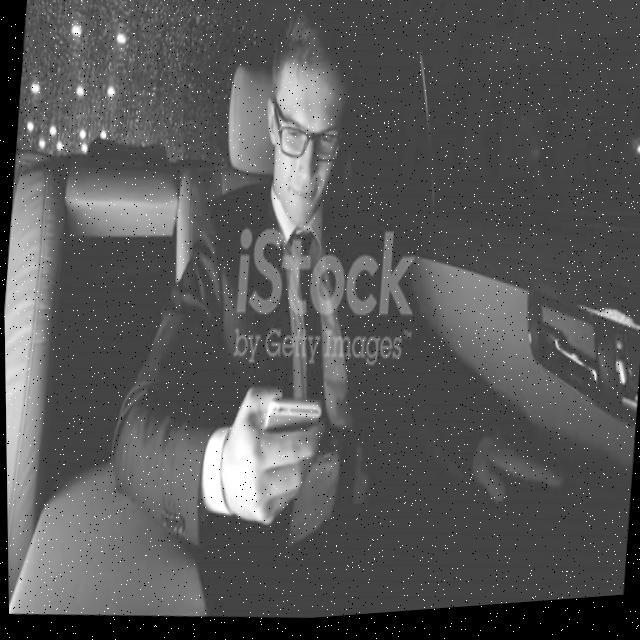PhoneCall: (254, 402, 322, 514)
